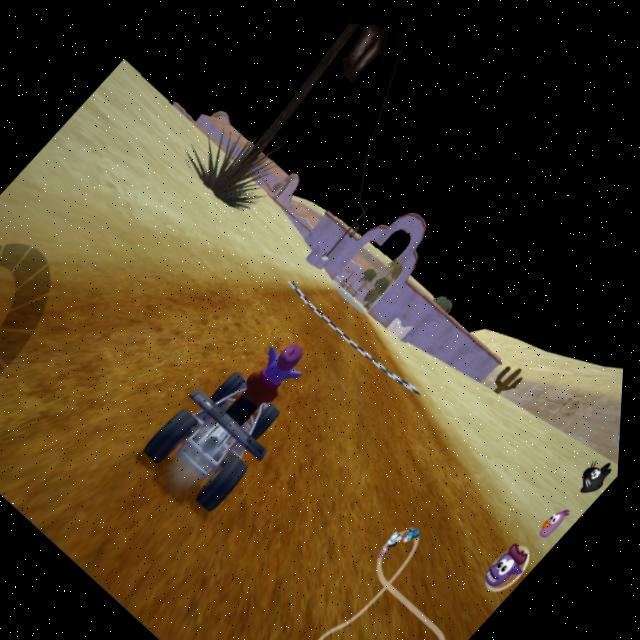off_track: (62, 77, 313, 316)
player_kart: (133, 306, 338, 529)
track: (285, 264, 384, 361)
